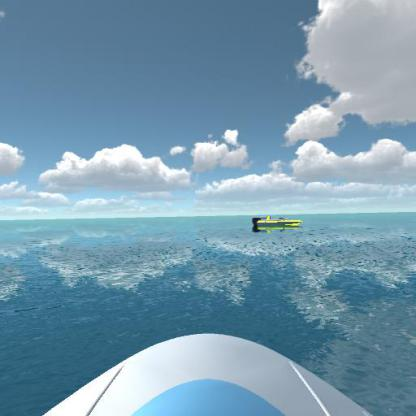usv2: (245, 207, 304, 237)
